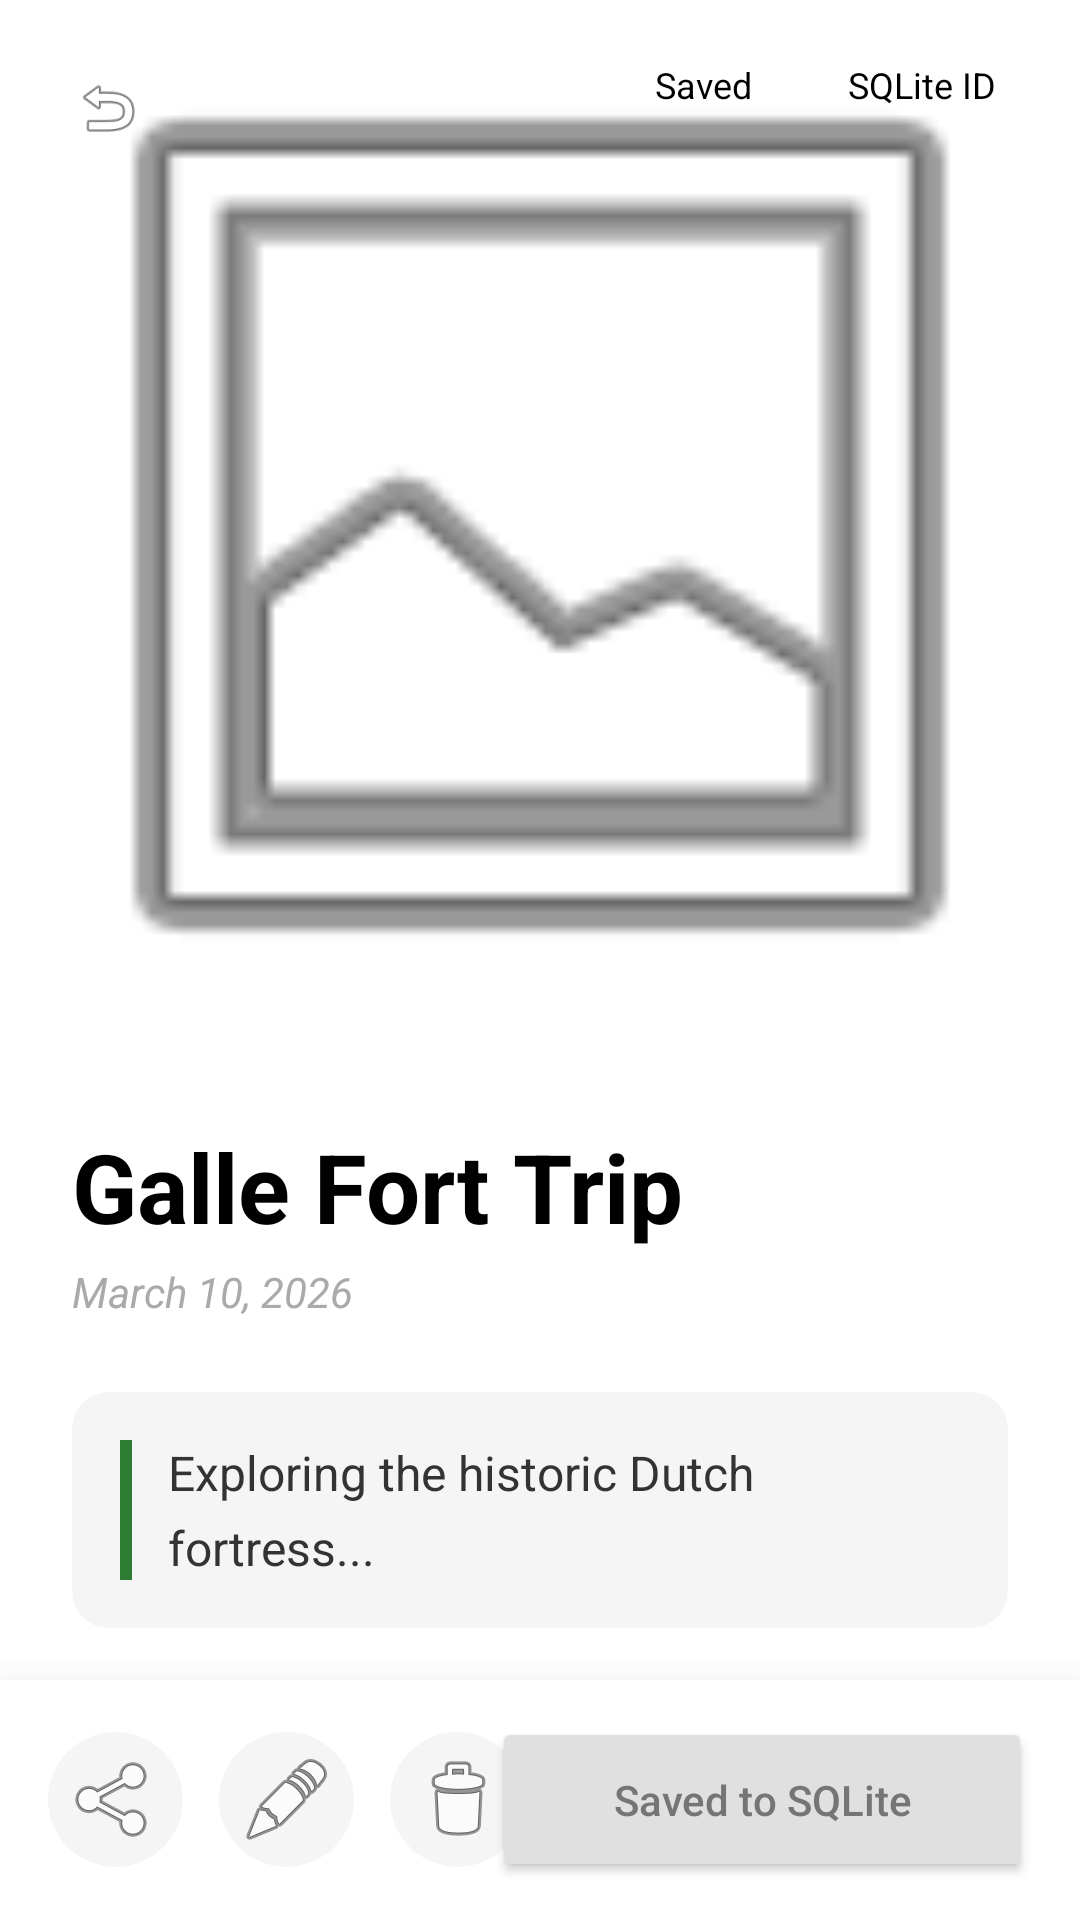

Locate icon controls on the screen. Image size 1080 × 1920, boxes as bbox=[x1, y1, x2, y2].
delete: bbox=[390, 1732, 525, 1867]
edit: bbox=[246, 1759, 327, 1840]
share: bbox=[48, 1732, 183, 1867]
